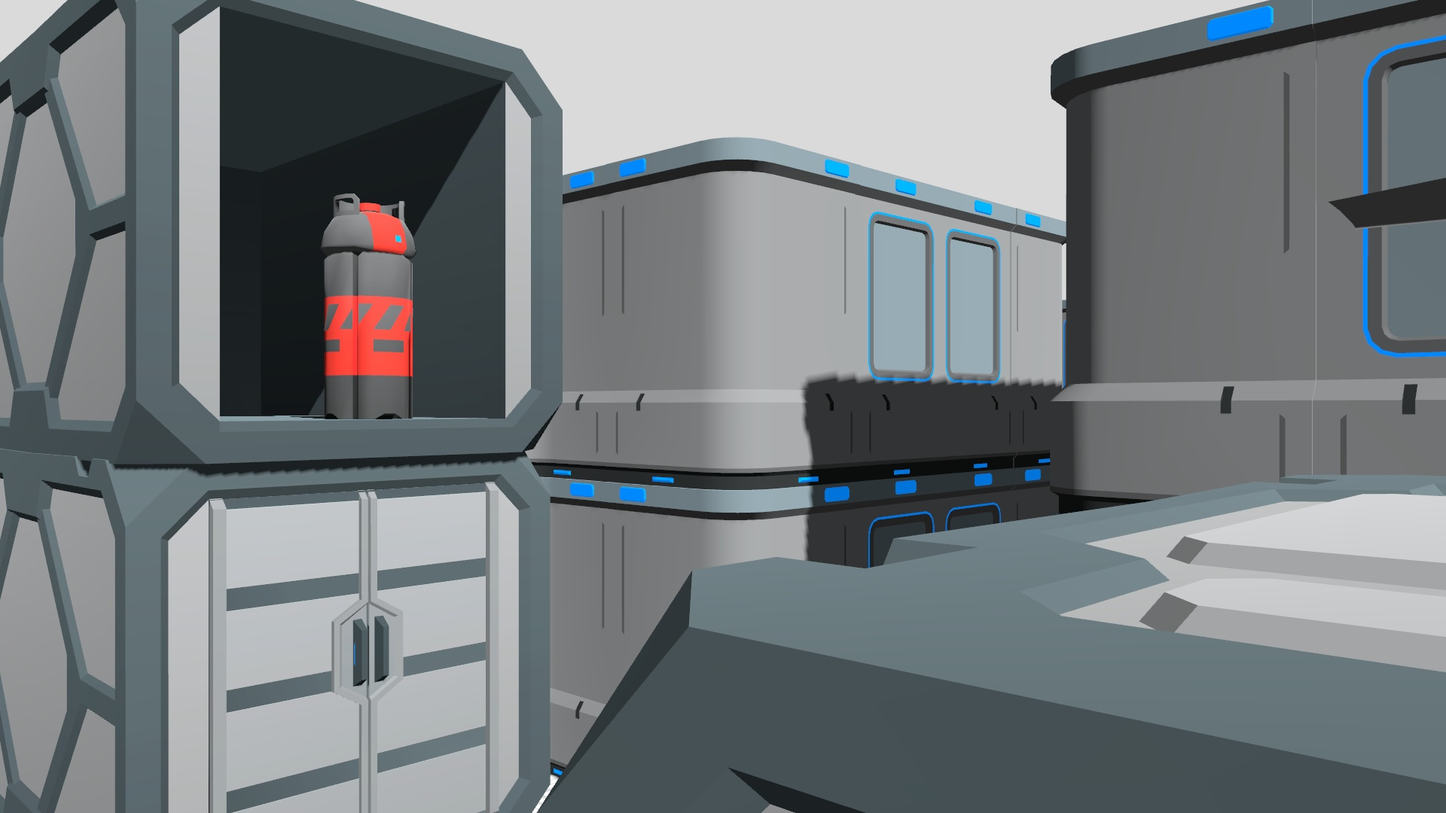red_barrel: (319, 184, 427, 426)
